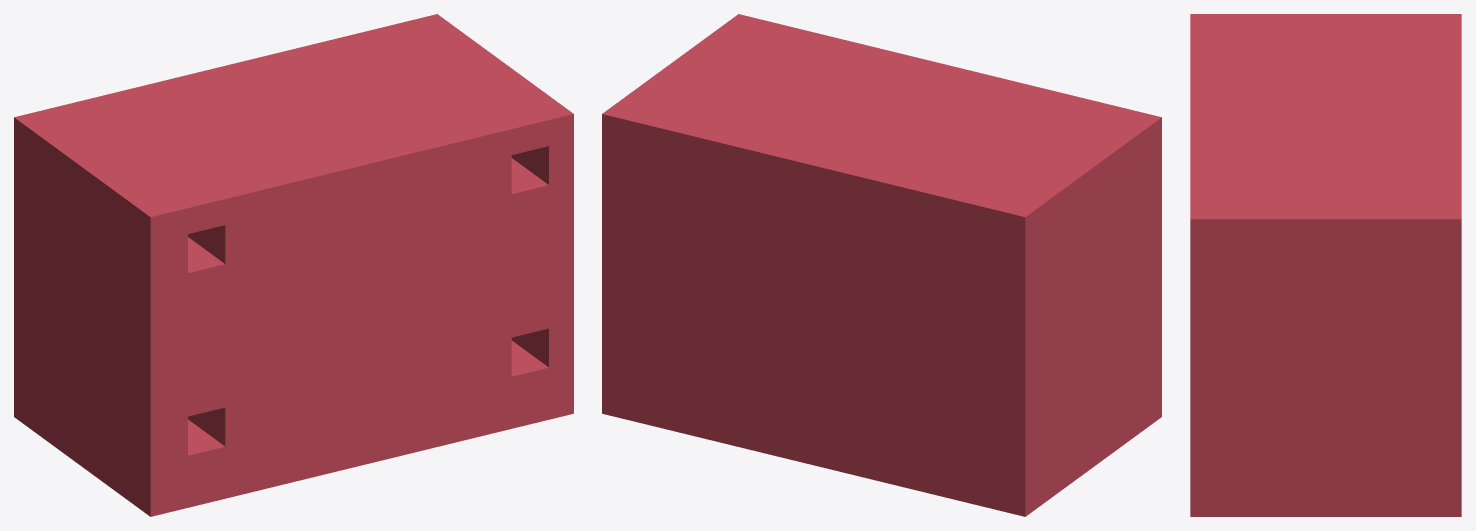
The model's file is AC Unit.glb.
3 renders of one model, left to right at view 1: azimuth 30°, elevation 25°; view 2: azimuth 150°, elevation 25°; view 3: azimuth 270°, elevation 25°, orthographic.
Parts seen in each view (by area): view 1: Mesh_Mesh_head_geo.001_lambert2SG.001; view 2: Mesh_Mesh_head_geo.001_lambert2SG.001; view 3: Mesh_Mesh_head_geo.001_lambert2SG.001.
Boxes of the visible parts, x1,y1,x2,y2 form: Mesh_Mesh_head_geo.001_lambert2SG.001: (14, 14, 573, 516); Mesh_Mesh_head_geo.001_lambert2SG.001: (602, 14, 1161, 516); Mesh_Mesh_head_geo.001_lambert2SG.001: (1190, 14, 1461, 516).
Size of the model in its own units: 34 by 23 by 19.
